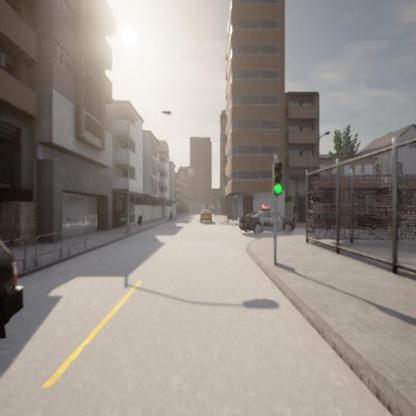traffic_light_green: (272, 160, 282, 193)
vehicle: (239, 209, 295, 236), (199, 209, 213, 224)
